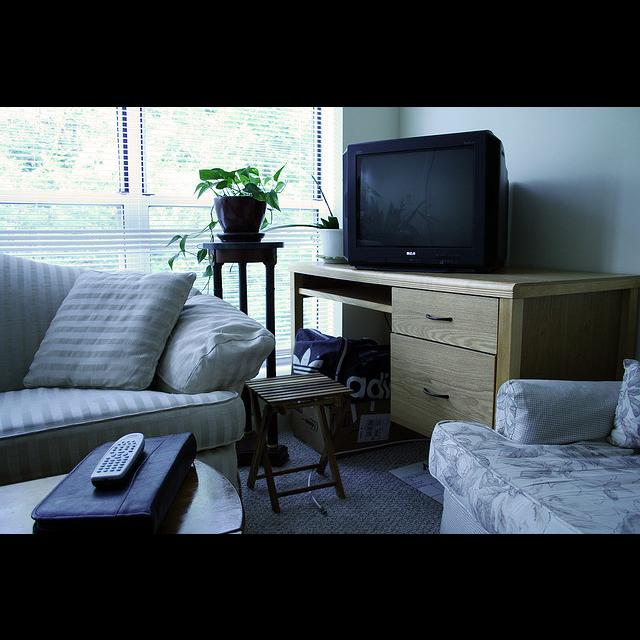TV-Remote-Control: (90, 432, 145, 486)
